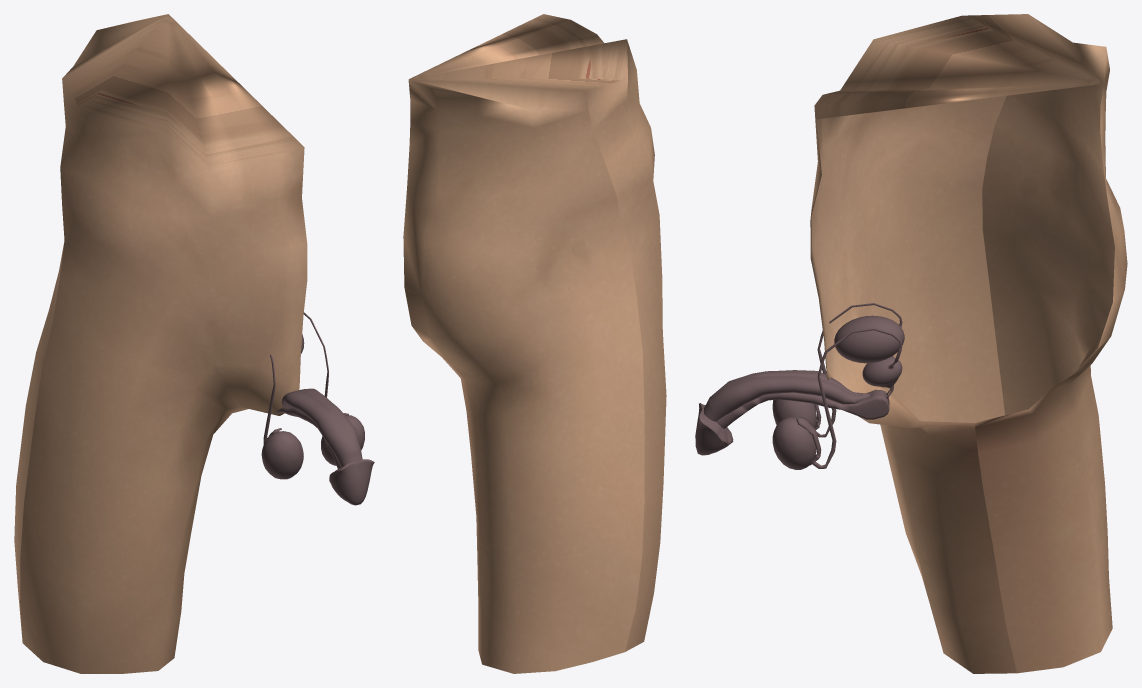
File: MR. P nganggo katok.fbx
The picture shows the model from 3 angles, left to right: view 1: azimuth 30°, elevation 25°; view 2: azimuth 150°, elevation 25°; view 3: azimuth 270°, elevation 25°; orthographic projection. The views are drawn at different scales.
Visible parts, largest first — view 1: gendud, Cube; view 2: gendud; view 3: gendud, Cube.
Part boxes in pixels (x1,y1,x2,y2): gendud: [14, 14, 307, 673]; Cube: [261, 312, 374, 505]; gendud: [403, 14, 666, 673]; gendud: [810, 14, 1127, 673]; Cube: [695, 303, 904, 469].
Size of the model in its own units: 814 by 1907 by 1205.
2 materials, 1 textured.
